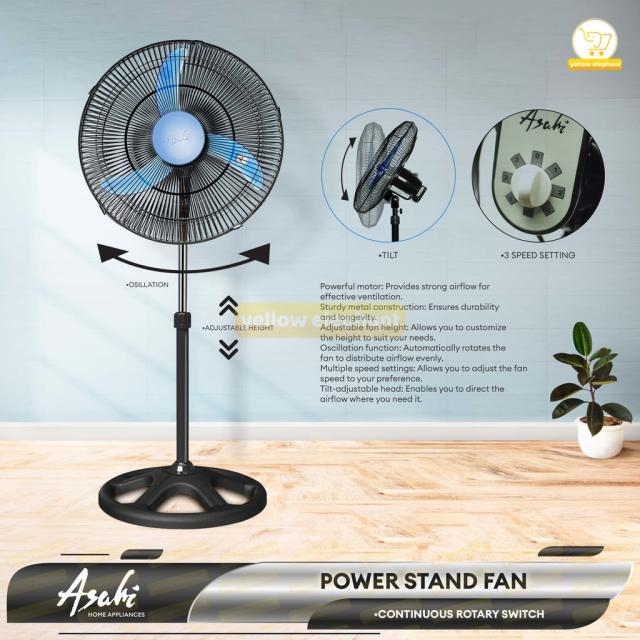electronics: (79, 41, 282, 528), (472, 109, 604, 241), (353, 121, 426, 241), (355, 122, 384, 184), (357, 199, 384, 228)
